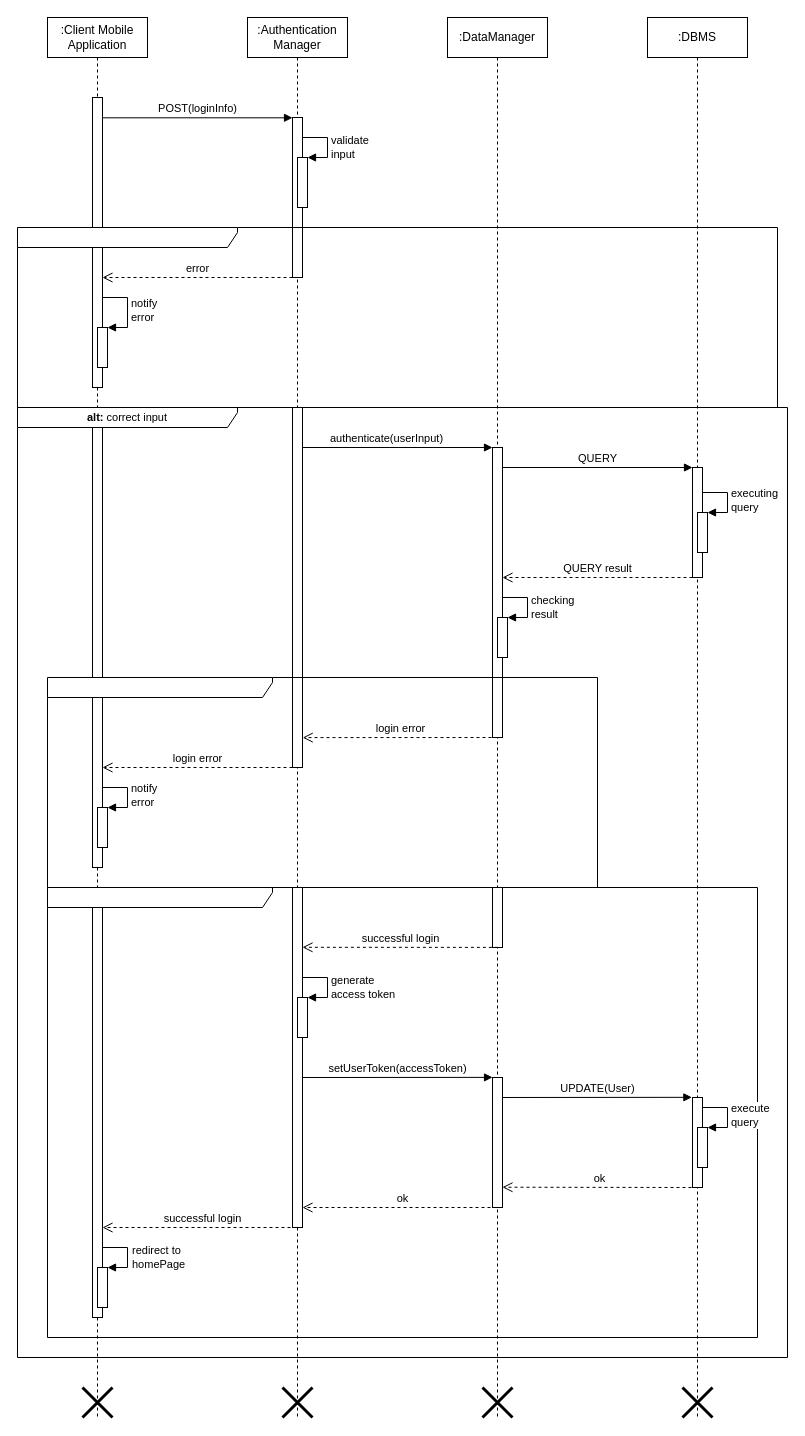
The diagram is 805 pixels wide and 1436 high, and some of its shapes have lost their labels. The centre of each missing label's shape, as x and y in pixels:
"alt: correct email and password" goes at point (402, 1112).
"alt: wrong data or BLOCKED user" goes at point (322, 782).
"alt: wrong input" goes at point (397, 317).
